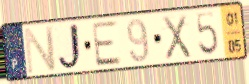5: (195, 10, 221, 58)
9: (125, 18, 151, 65)
E: (90, 19, 124, 69)
J: (57, 22, 85, 73)
N: (22, 24, 58, 76)
X: (161, 13, 194, 62)
